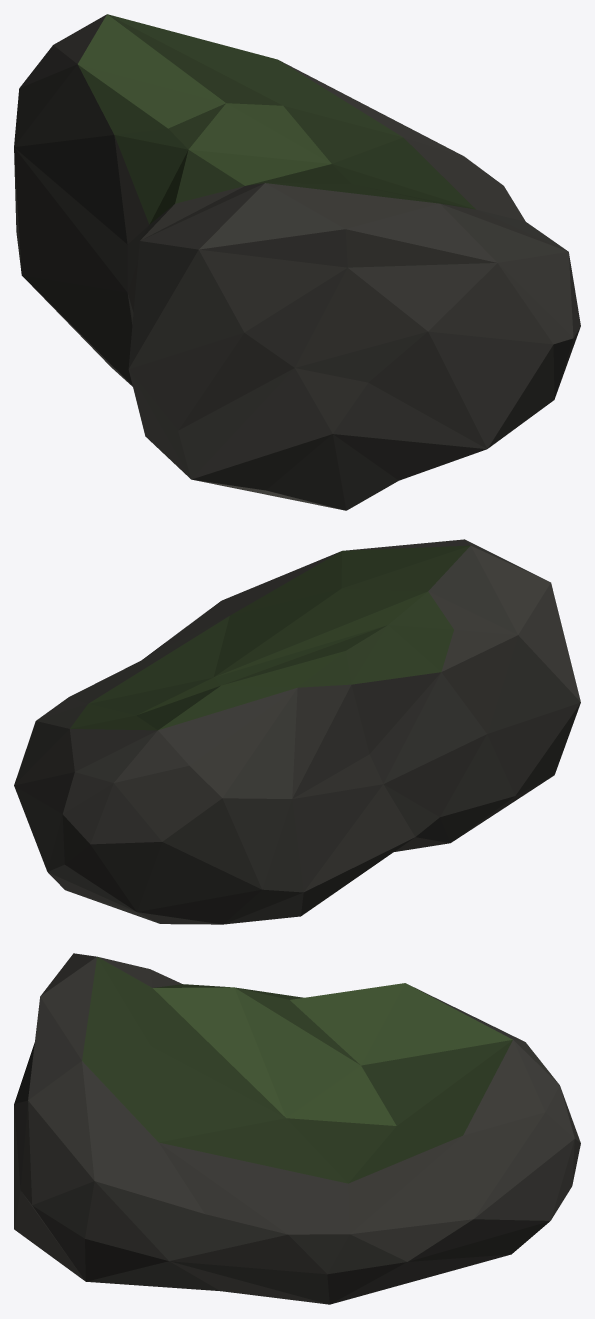
File: Kaya003.fbx
The picture shows the model from 3 angles, top to bottom: view 1: azimuth 30°, elevation 25°; view 2: azimuth 150°, elevation 25°; view 3: azimuth 270°, elevation 25°; orthographic projection. The views are drawn at different scales.
Parts seen in each view (by area): view 1: Icosphere.008; view 2: Icosphere.008; view 3: Icosphere.008.
Boxes of the visible parts, x1,y1,x2,y2 form: Icosphere.008: (14, 14, 580, 510); Icosphere.008: (14, 539, 580, 924); Icosphere.008: (14, 953, 580, 1304).
Size of the model in its own units: 2.24 by 2.84 by 1.4.
